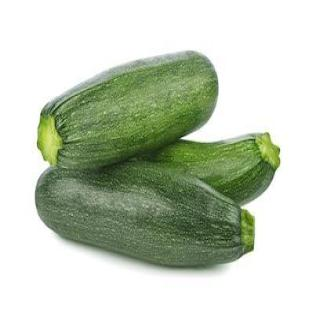Zucchini: (36, 161, 253, 266), (38, 52, 217, 169), (139, 134, 279, 203)
